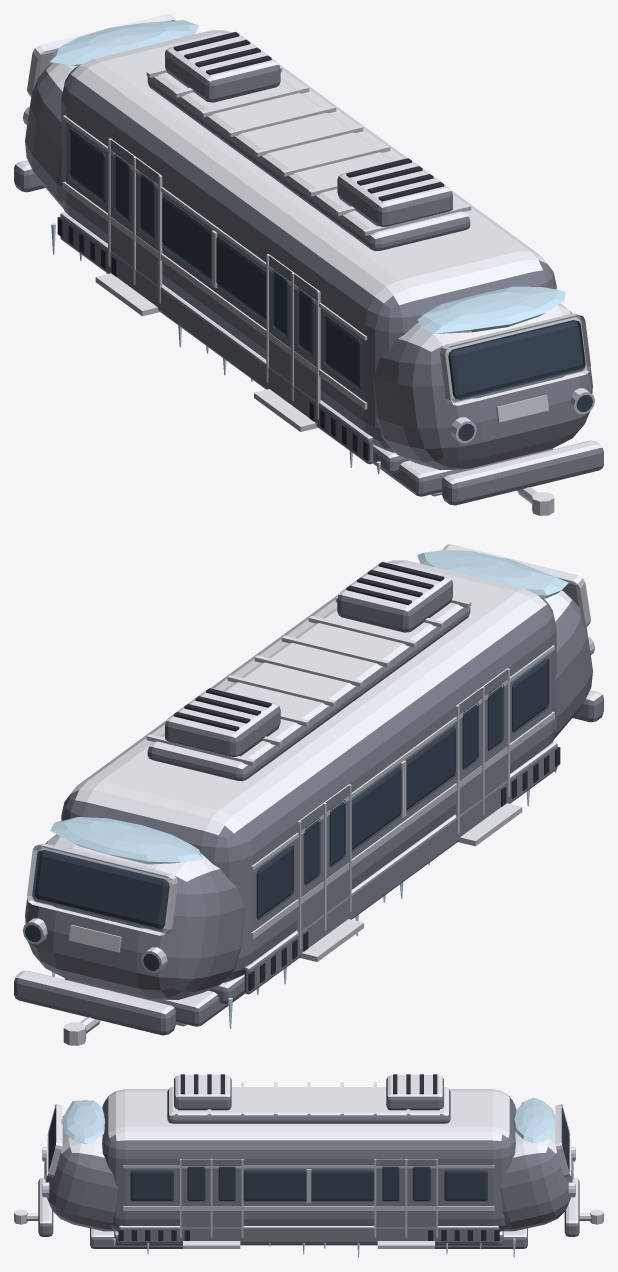
File: PR_Capsula.fbx
3 views of the same model, one above another, from view 1: azimuth 30°, elevation 25°; view 2: azimuth 150°, elevation 25°; view 3: azimuth 270°, elevation 25° (orthographic). The views are drawn at different scales.
Parts seen in each view (by area): view 1: PR_Capsula; view 2: PR_Capsula; view 3: PR_Capsula.
Boxes of the visible parts, x1,y1,x2,y2 form: PR_Capsula: [14, 14, 603, 515]; PR_Capsula: [14, 544, 603, 1045]; PR_Capsula: [14, 1074, 603, 1257].
Bounding box in the file's own units: 3.56 × 3.8 × 13.34.
